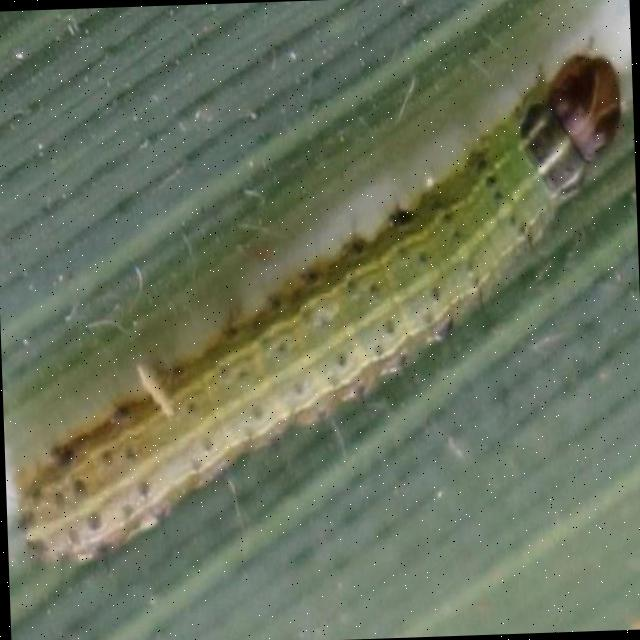worm: (1, 48, 640, 571)
